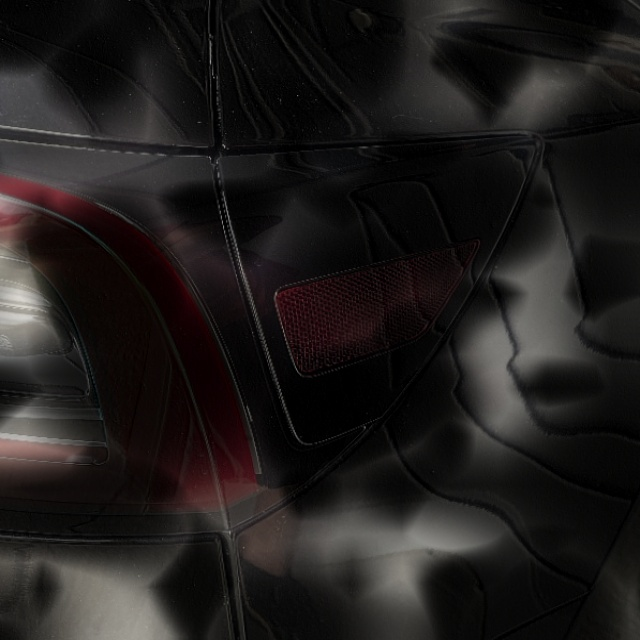reflector: (272, 237, 486, 377)
